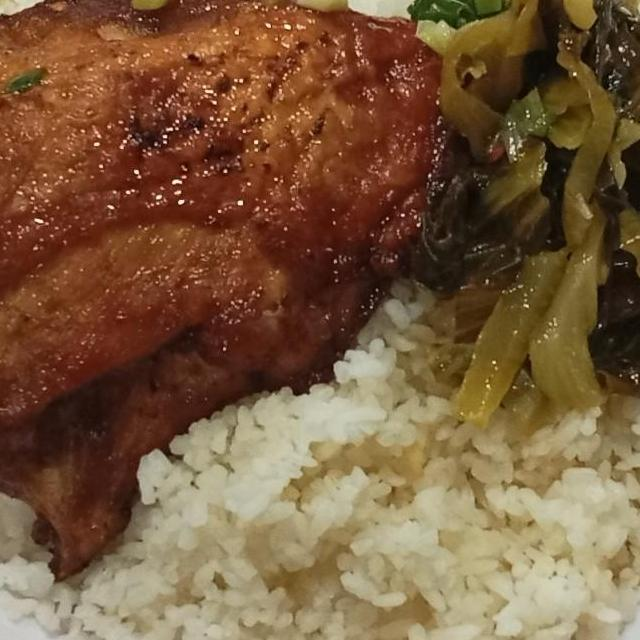com: (322, 271, 640, 640), (70, 377, 375, 640)
dua chua: (405, 0, 640, 445)
thit ga: (0, 0, 464, 590)
